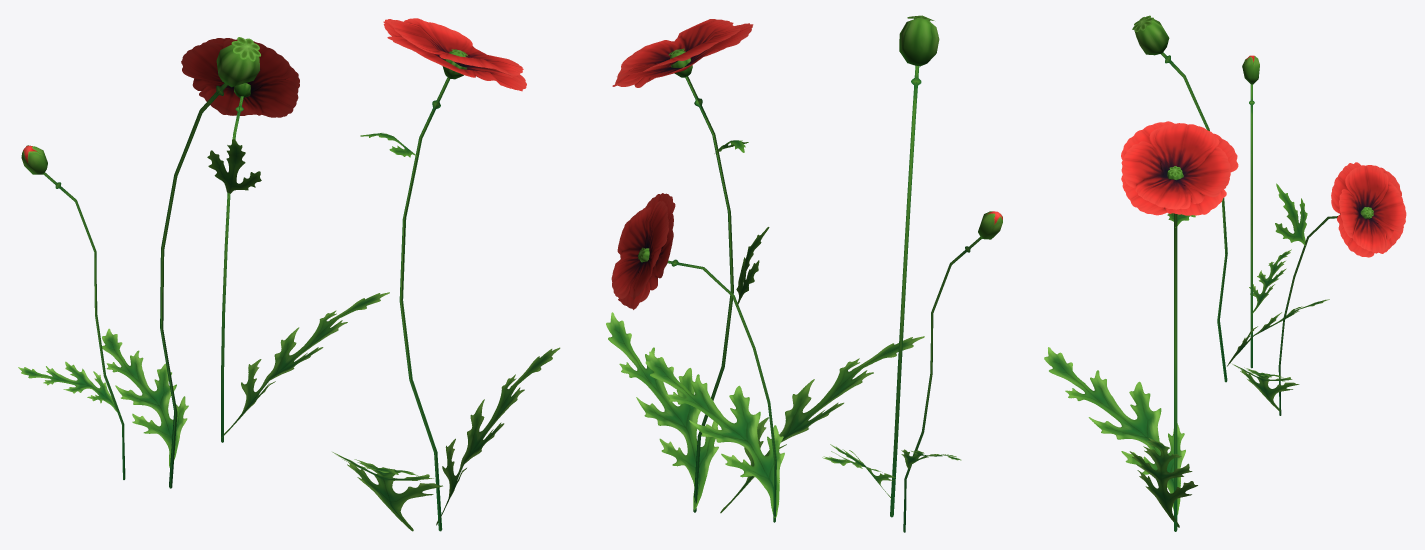
The model's file is Puppies.fbx.
The picture shows the model from 3 angles, left to right: view 1: azimuth 30°, elevation 25°; view 2: azimuth 150°, elevation 25°; view 3: azimuth 270°, elevation 25°; orthographic projection. The views are drawn at different scales.
Parts seen in each view (by area): view 1: Poppy_stam_low.004, Poppy_stam_low.003, Poppy_stam_low.002, Poppy_stam_low.005; view 2: Poppy_stam_low.004, Poppy_stam_low.003, Poppy_stam_low.002, Poppy_stam_low.005; view 3: Poppy_stam_low.004, Poppy_stam_low.003, Poppy_stam_low.002, Poppy_stam_low.005.
Part boxes in pixels (x1,y1,x2,y2): Poppy_stam_low.004: (332, 18, 560, 531); Poppy_stam_low.003: (181, 38, 389, 442); Poppy_stam_low.002: (102, 37, 260, 488); Poppy_stam_low.005: (18, 145, 125, 479); Poppy_stam_low.004: (606, 19, 924, 513); Poppy_stam_low.003: (611, 193, 784, 522); Poppy_stam_low.002: (822, 15, 939, 517); Poppy_stam_low.005: (901, 211, 1002, 532); Poppy_stam_low.004: (1044, 121, 1238, 531); Poppy_stam_low.003: (1232, 162, 1406, 415); Poppy_stam_low.002: (1132, 15, 1329, 382); Poppy_stam_low.005: (1242, 55, 1291, 368).
Size of the model in its own units: 168 by 187 by 148.
